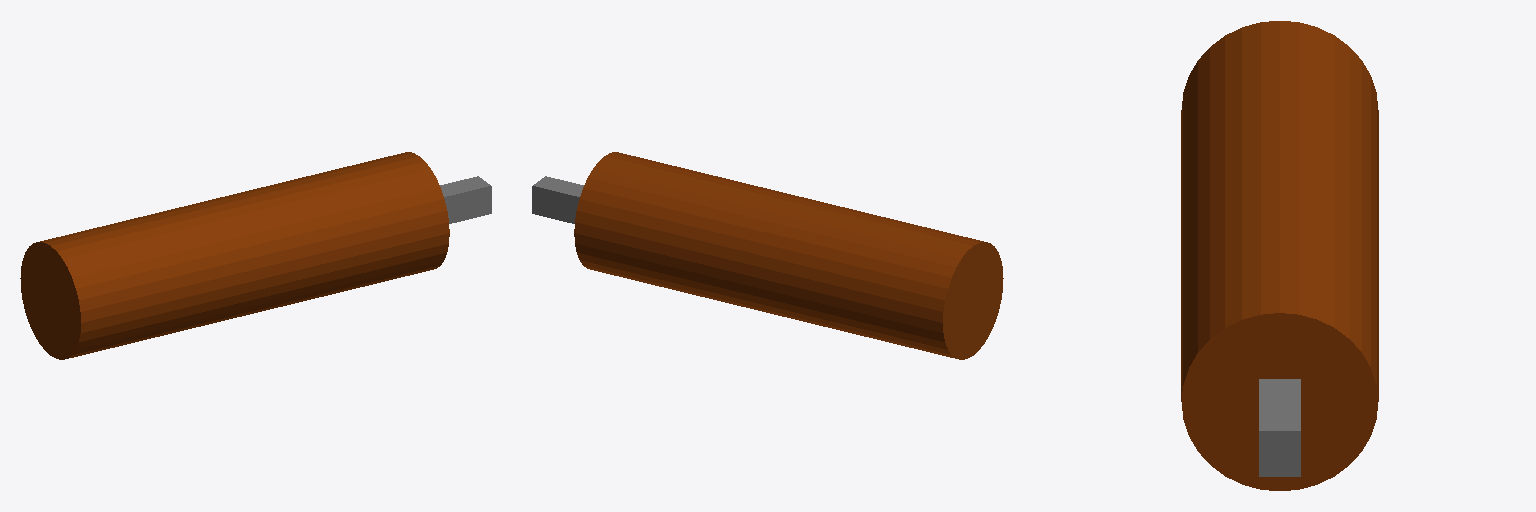
robot.urdf — handle_head:
<?xml version="1.0"?>
<robot name="handle_head">

  <link name="handle_head">
    <!-- Handle -->
    <visual>
              <origin xyz="0 0 0" rpy="0 -1.5707963267948966 0"/>
        <geometry>
          <cylinder length="0.1036998045283919" radius="0.014758992277599678"/>
        </geometry>
        
      <material name="brown">
        <color rgba="0.55 0.27 0.07 1.0"/>
      </material>
    </visual>
    <collision>
              <origin xyz="0 0 0" rpy="0 -1.5707963267948966 0"/>
        <geometry>
          <cylinder length="0.1036998045283919" radius="0.014758992277599678"/>
        </geometry>
        
    </collision>

    <!-- Head -->
    <visual>
              <origin xyz="0.061066270789209676 0 0" rpy="0 0 0"/>
        <geometry>
          <box size="0.01843273705002744 0.0064112155589461945 0.007584801740461685"/>
        </geometry>
        
      <material name="gray">
        <color rgba="0.5 0.5 0.5 1.0"/>
      </material>
    </visual>
    <collision>
              <origin xyz="0.061066270789209676 0 0" rpy="0 0 0"/>
        <geometry>
          <box size="0.01843273705002744 0.0064112155589461945 0.007584801740461685"/>
        </geometry>
        
    </collision>

    <inertial>
      <origin xyz="0.00054308107639403 0 0" rpy="0 0 0"/>
      <mass value="0.04503117719056146"/>
      <inertia ixx="4.709135352670411e-06" iyy="6.099562216590077e-05" izz="6.099507399650787e-05" ixy="0" ixz="0" iyz="0"/>
    </inertial>
  </link>

</robot>

--- Facts derived from the render (not from the file) ---
The picture shows the robot from 3 angles, left to right: view 1: azimuth 30°, elevation 25°; view 2: azimuth 150°, elevation 25°; view 3: azimuth 270°, elevation 25°; orthographic projection.
Model handle_head with 1 links and 0 joints (none), rooted at handle_head, posed all joints at 0.
Links seen in each view (by area): view 1: handle_head; view 2: handle_head; view 3: handle_head.
Boxes of the visible links, bbox=[...] form: handle_head: bbox=[20, 152, 491, 359]; handle_head: bbox=[532, 152, 1003, 359]; handle_head: bbox=[1181, 21, 1378, 490].
Bounding box of the posed robot: 0.1221 × 0.0295 × 0.0295 m (x, y, z).
Geometry: primitives only (box / cylinder / sphere), no mesh files.
